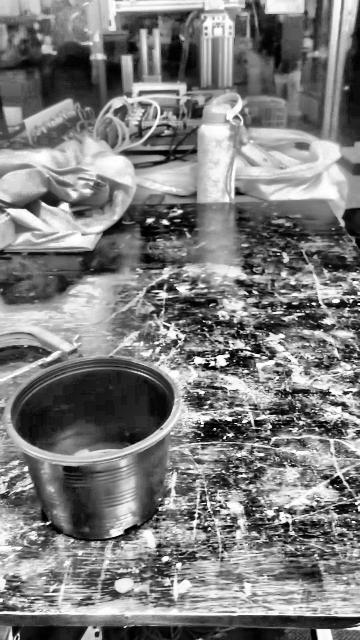pot: (7, 357, 178, 540)
